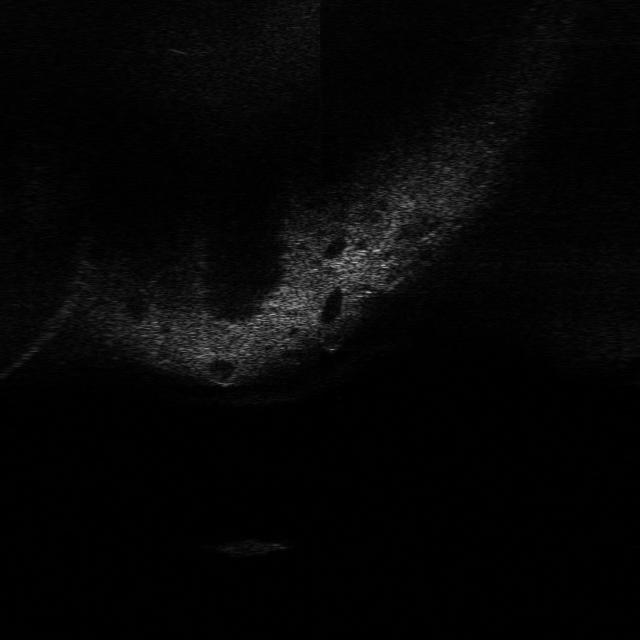ball: (316, 326, 350, 354)
cube: (202, 533, 289, 560)
